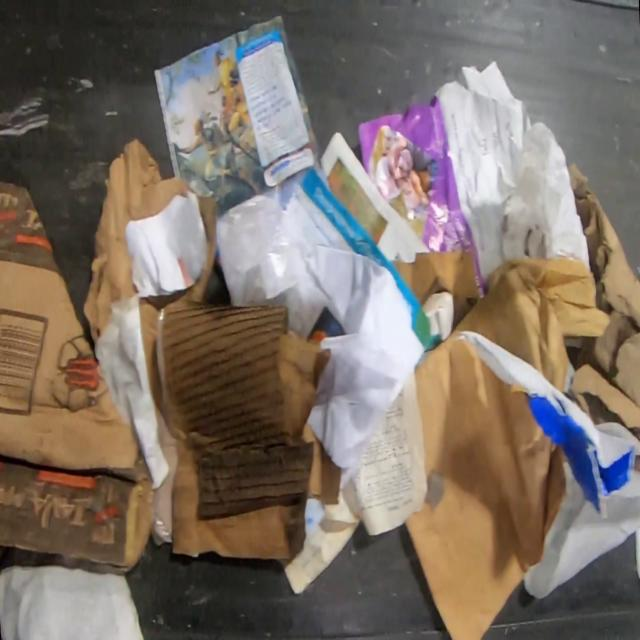cardboard: (0, 176, 156, 579), (404, 332, 567, 640), (153, 296, 340, 557), (82, 137, 216, 419), (452, 256, 610, 394), (569, 164, 640, 445), (392, 249, 479, 331)
soft_plastic: (215, 193, 327, 336)
